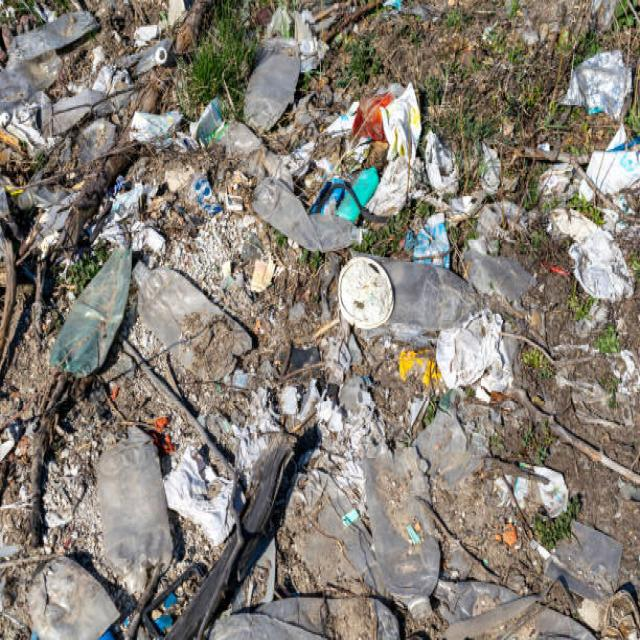trash: (1, 8, 597, 626)
